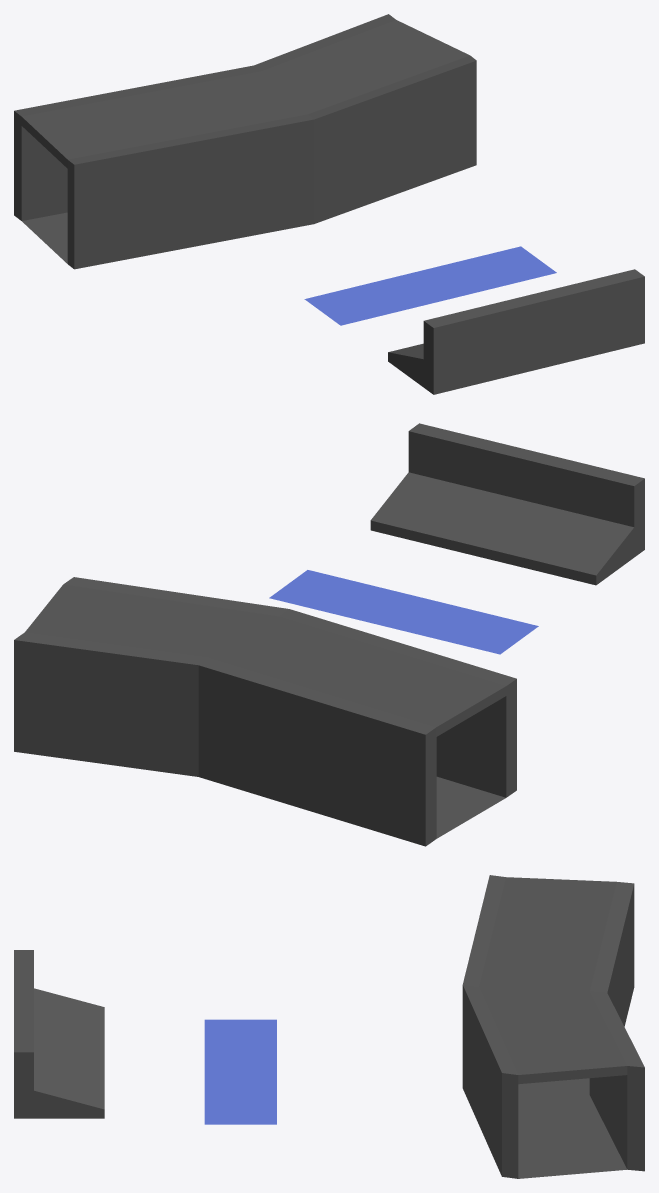
3 renders of one model, top to bottom at view 1: azimuth 30°, elevation 25°; view 2: azimuth 150°, elevation 25°; view 3: azimuth 270°, elevation 25°, orthographic. The views are drawn at different scales.
Visible parts, largest first — view 1: tuneli, Plane.001, Plane.002; view 2: tuneli, Plane.001, Plane.002; view 3: tuneli, Plane.001, Plane.002.
Part boxes in pixels (left/top/right/bottom): tuneli: left=14, top=14, right=476, bottom=269; Plane.001: left=388, top=269, right=644, bottom=394; Plane.002: left=304, top=246, right=556, bottom=325; tuneli: left=14, top=577, right=516, bottom=846; Plane.001: left=370, top=423, right=644, bottom=585; Plane.002: left=269, top=570, right=538, bottom=654; tuneli: left=462, top=875, right=644, bottom=1178; Plane.001: left=14, top=950, right=104, bottom=1118; Plane.002: left=204, top=1019, right=276, bottom=1124.
Size of the model in its own units: 202 by 50.41 by 271.
